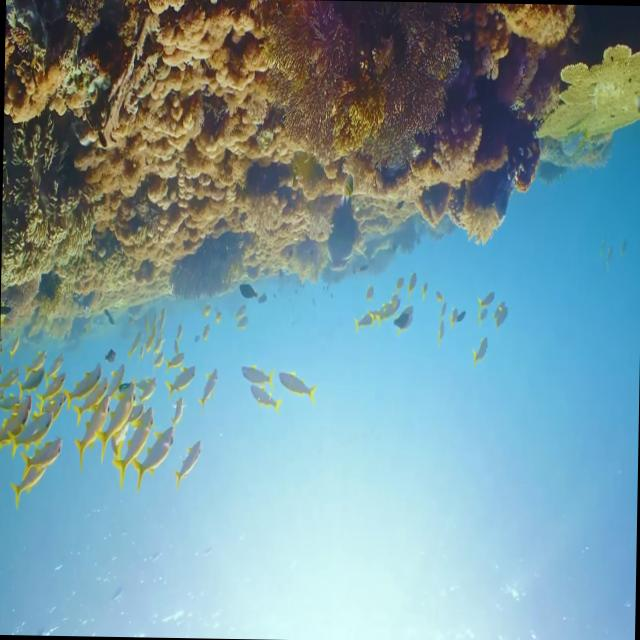fish: (69, 386, 114, 470), (118, 408, 156, 486), (134, 426, 174, 484), (235, 362, 280, 396), (279, 369, 313, 403)
